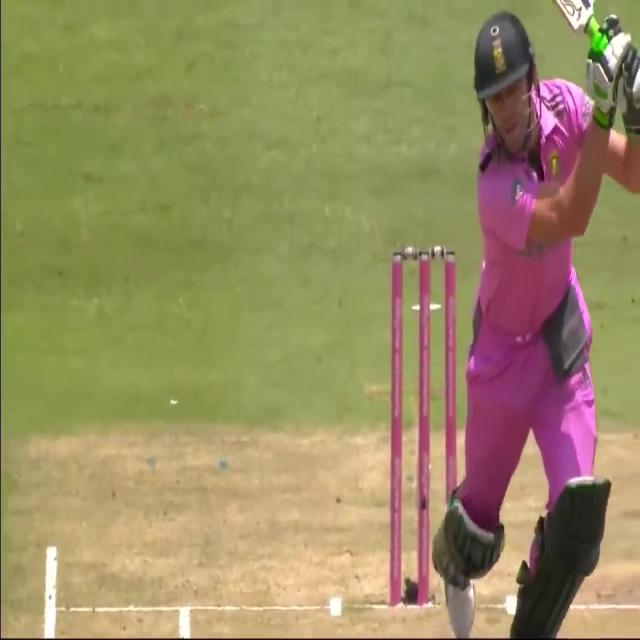Ball: (420, 2, 634, 638)
